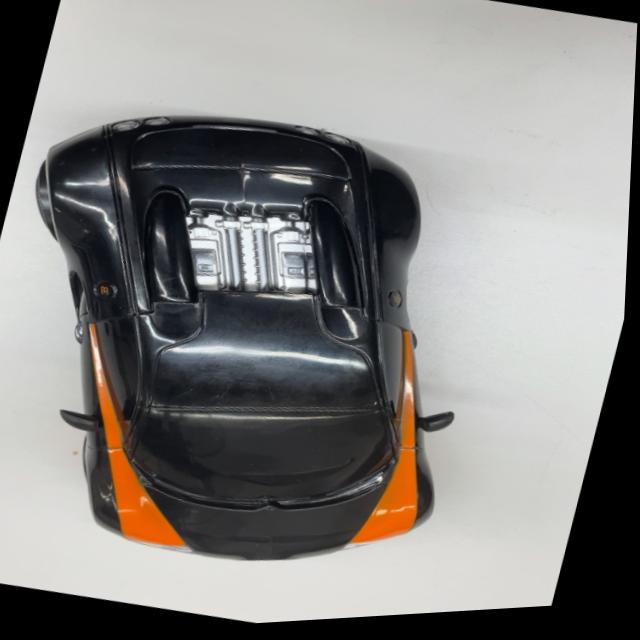vehicle_body: (0, 59, 539, 620)
